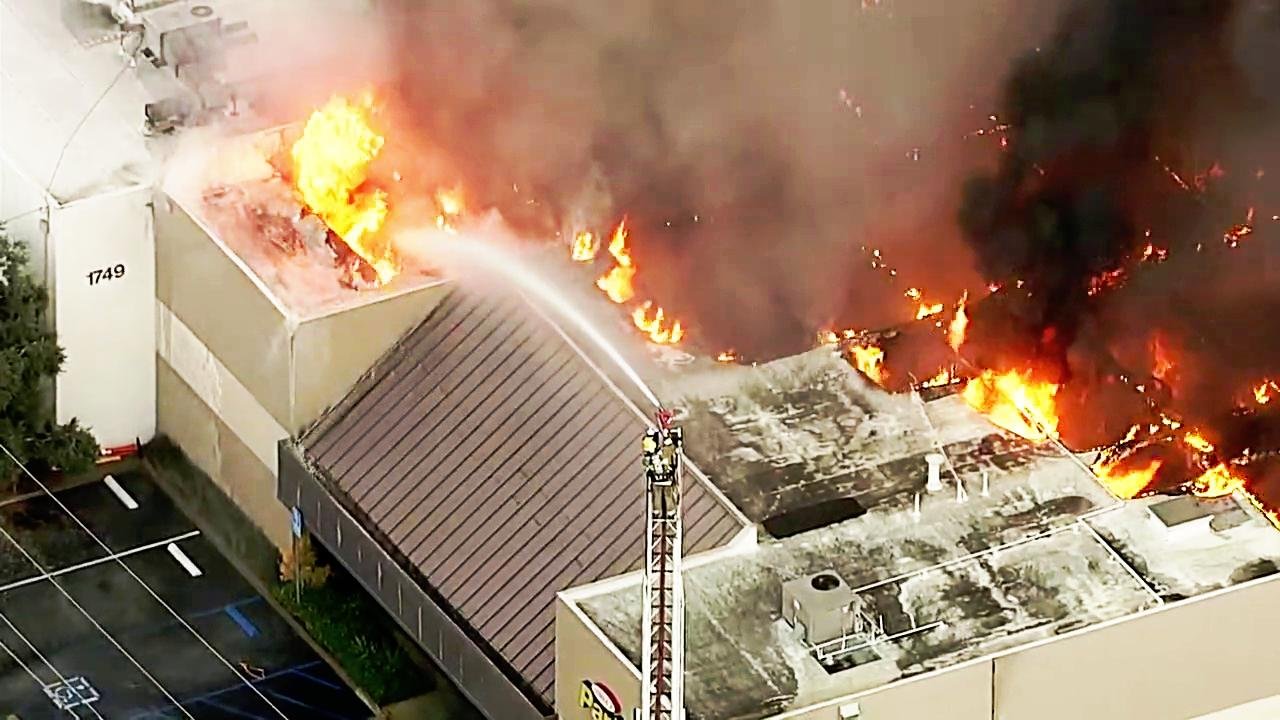fire: (280, 82, 393, 266), (937, 350, 1086, 435)
smoke: (493, 0, 1077, 205), (915, 0, 1150, 358)
